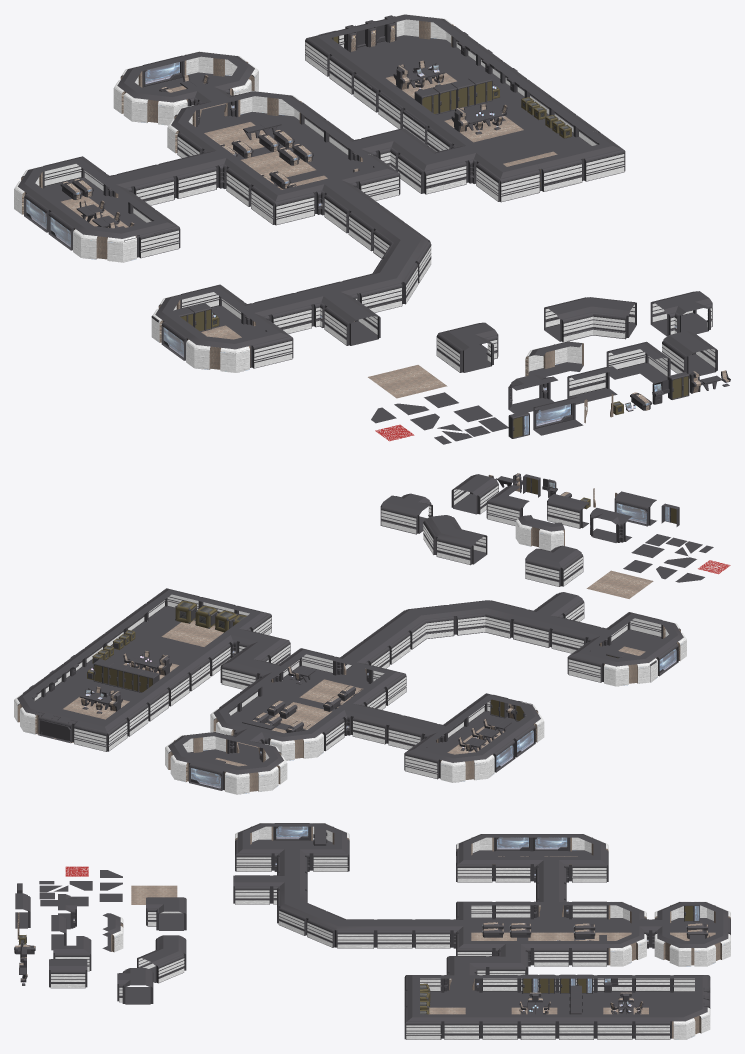
3 renders of one model, top to bottom at view 1: azimuth 30°, elevation 25°; view 2: azimuth 150°, elevation 25°; view 3: azimuth 270°, elevation 25°, orthographic. The views are drawn at different scales.
Parts seen in each view (by area): view 1: HallAngle, HallCorner2, HallAngle2, HallCorner, WallCorner11, WallCorner13, HallT, WallAngle10, WallAngle8, Hall8, HallAngle1, WallCorner (+59 smaller); view 2: HallAngle, HallAngle2, HallCorner, HallAngle1, HallT, WallCorner14, WallAngle9, WallAngle1, WallAngle11, HallT1, HallCorner1, Hall (+56 smaller); view 3: HallAngle1, HallAngle, HallAngle2, HallCorner, HallT, Hall4, Hall8, Hall, WallCorner19, WallCorner18, WallCorner15, WallCorner16 (+55 smaller).
Part boxes in pixels (left/top/right/bottom): HallAngle: left=544, top=297, right=636, bottom=341; HallCorner2: left=398, top=145, right=466, bottom=194; HallAngle2: left=343, top=256, right=418, bottom=312; HallCorner: left=436, top=322, right=498, bottom=372; WallCorner11: left=251, top=179, right=314, bottom=225; WallCorner13: left=476, top=156, right=539, bottom=202; HallT: left=650, top=291, right=712, bottom=336; WallAngle10: left=186, top=333, right=250, bottom=372; WallAngle8: left=73, top=222, right=136, bottom=262; Hall8: left=324, top=298, right=380, bottom=345; HallAngle1: left=373, top=221, right=431, bottom=283; WallCorner: left=606, top=341, right=670, bottom=382; HallAngle: left=423, top=515, right=487, bottom=565; HallAngle2: left=449, top=600, right=525, bottom=638; HallCorner: left=525, top=545, right=583, bottom=586; HallAngle1: left=384, top=605, right=454, bottom=649; HallT: left=380, top=493, right=432, bottom=534; WallCorner14: left=74, top=713, right=127, bottom=751; WallAngle9: left=440, top=749, right=494, bottom=782; WallAngle1: left=224, top=761, right=278, bottom=794; WallAngle11: left=604, top=652, right=657, bottom=686; HallT1: left=513, top=607, right=564, bottom=647; HallCorner1: left=220, top=648, right=271, bottom=689; Hall: left=451, top=474, right=498, bottom=514; HallAngle1: left=307, top=910, right=375, bottom=948; HallAngle: left=137, top=935, right=186, bottom=983; HallAngle2: left=277, top=888, right=325, bottom=935; HallCorner: left=146, top=897, right=186, bottom=930; HallT: left=117, top=968, right=153, bottom=1004; Hall4: left=375, top=919, right=413, bottom=948; Hall8: left=233, top=875, right=271, bottom=904; Hall: left=49, top=959, right=87, bottom=988; WallCorner19: left=235, top=836, right=273, bottom=871; WallCorner18: left=311, top=836, right=349, bottom=871; WallCorner15: left=404, top=1004, right=442, bottom=1039; WallCorner16: left=570, top=847, right=608, bottom=882.
Bounding box in the file's own units: 1.43 × 0.0653 × 2.16.
8 materials, 4 textured.
